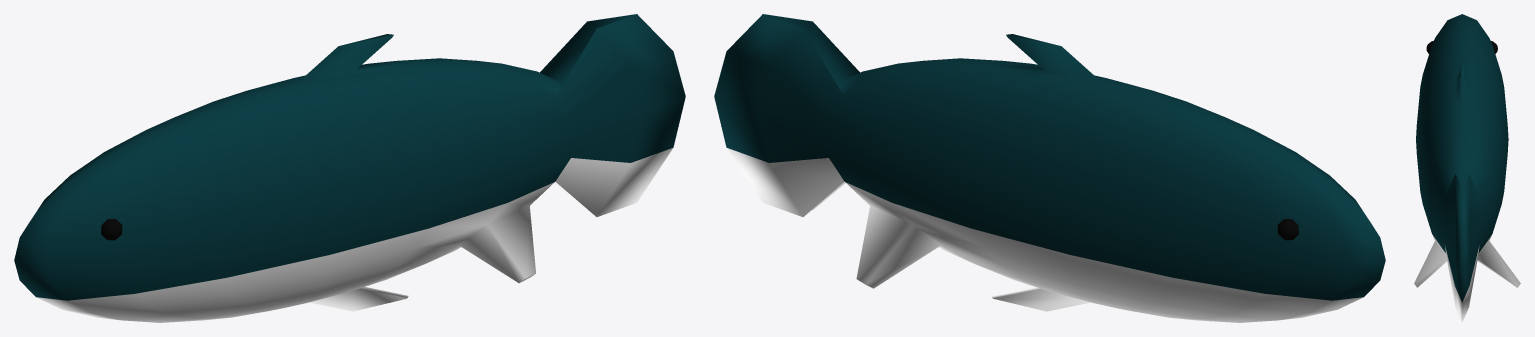
The model's file is Fisch.fbx.
3 views of the same model, side by side, from view 1: azimuth 30°, elevation 25°; view 2: azimuth 150°, elevation 25°; view 3: azimuth 270°, elevation 25° (orthographic). The views are drawn at different scales.
Visible parts, largest first — view 1: Sphere; view 2: Sphere; view 3: Sphere, Sphere.001.
Boxes of the visible parts, x1,y1,x2,y2 form: Sphere: [14, 14, 685, 322]; Sphere: [714, 14, 1385, 322]; Sphere: [1414, 14, 1520, 322]; Sphere.001: [1426, 41, 1497, 53].
Bounding box in the file's own units: 1187 × 454 × 231.
